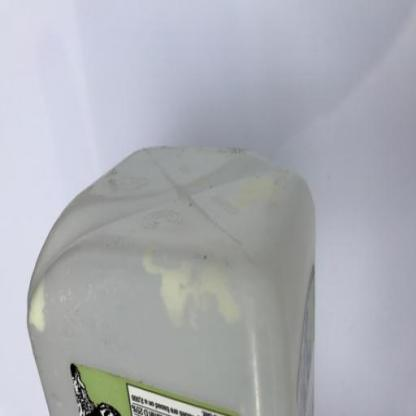trash: (28, 143, 315, 416)
